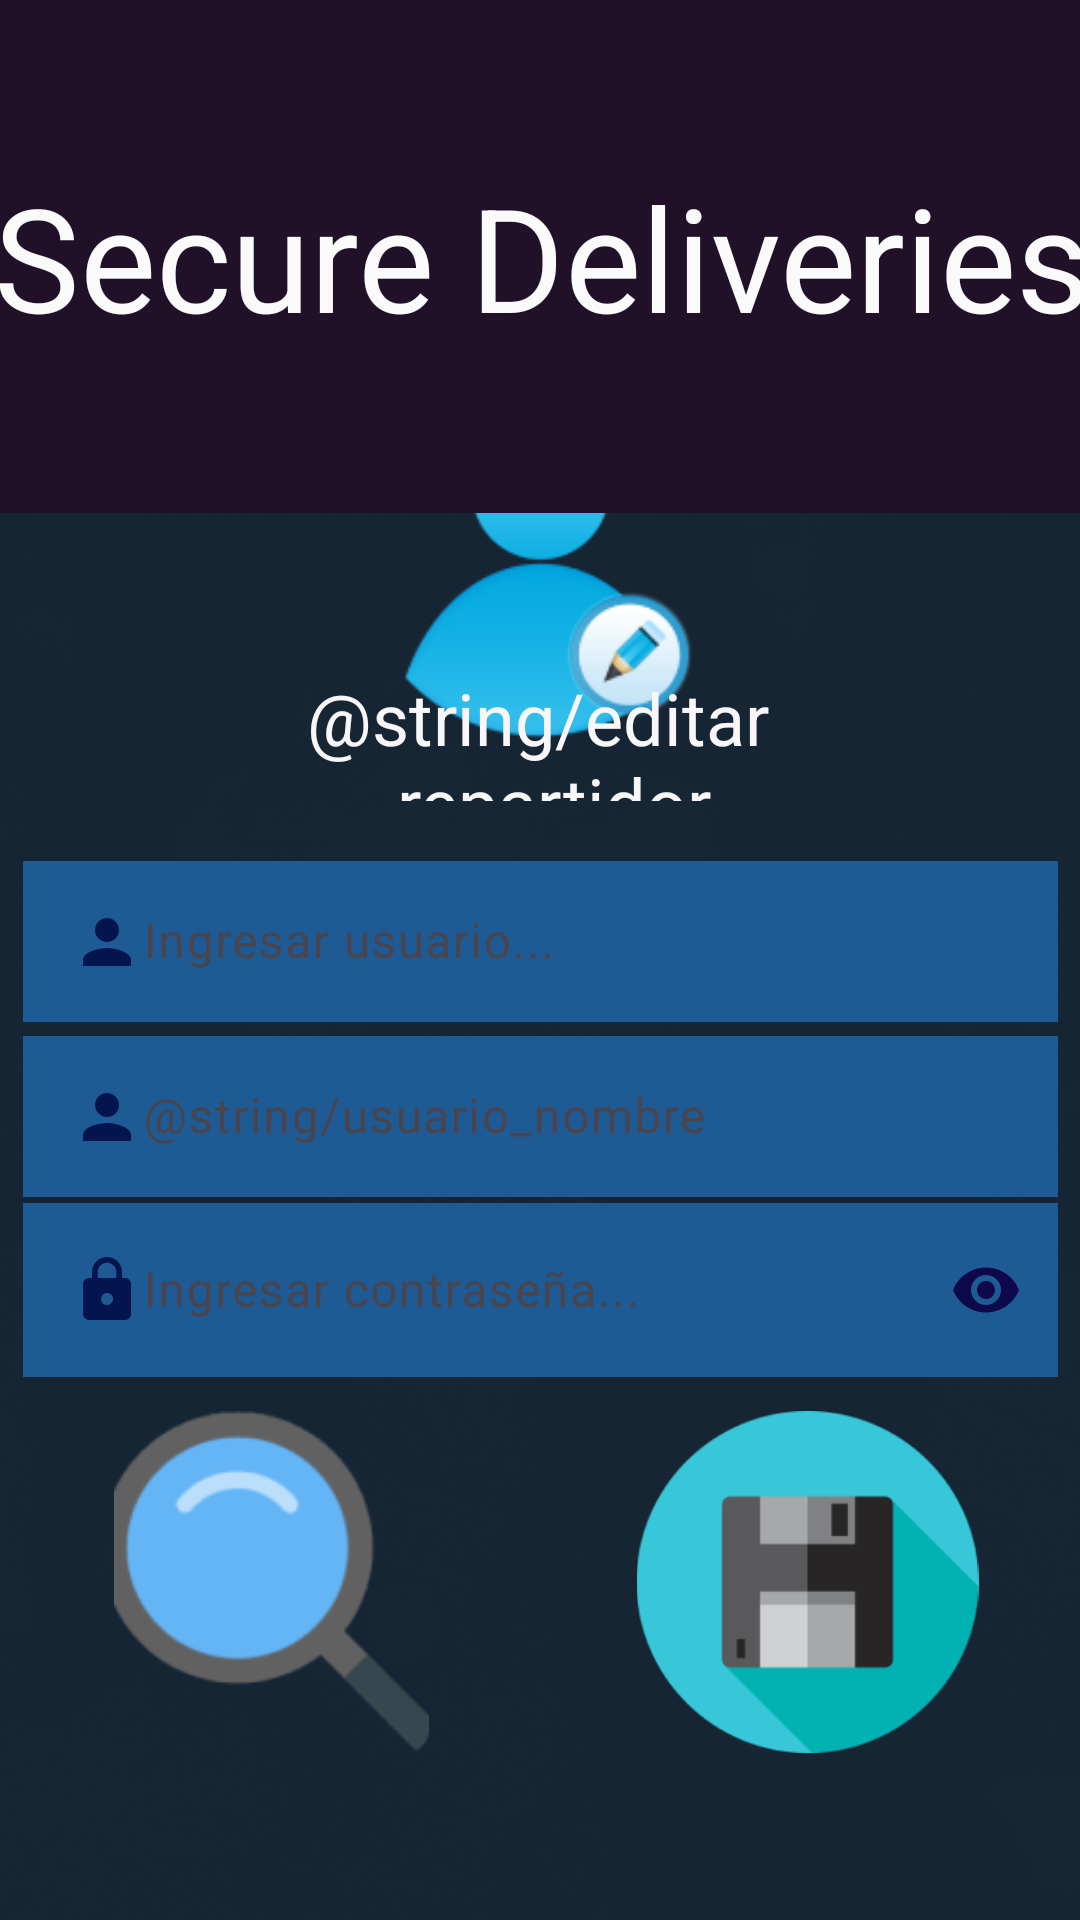

Named icons in this screenshot (1080x1920) and their centers, (x=x, y=y):
buscar: (x=271, y=1580)
guardar: (x=808, y=1582)
